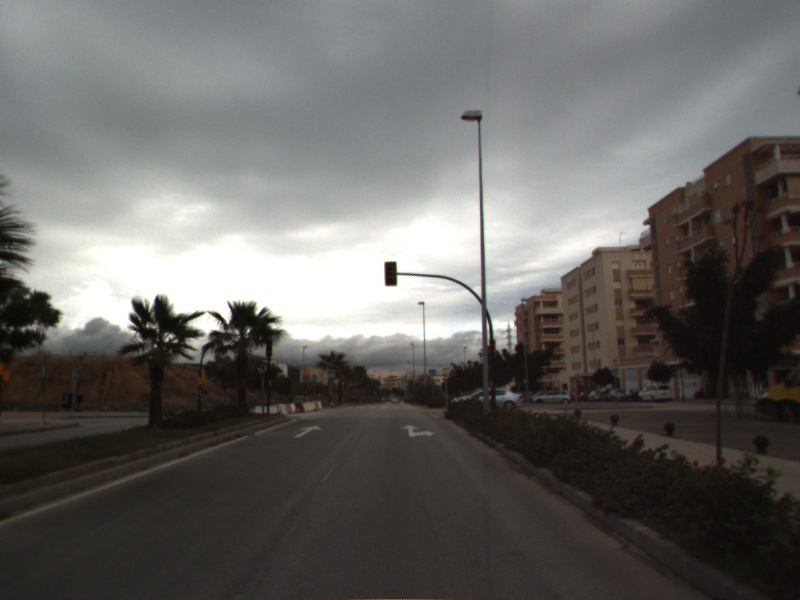STRAIGHT: (292, 422, 324, 439)
STRAIGHT_RIGHT: (399, 422, 437, 439)
